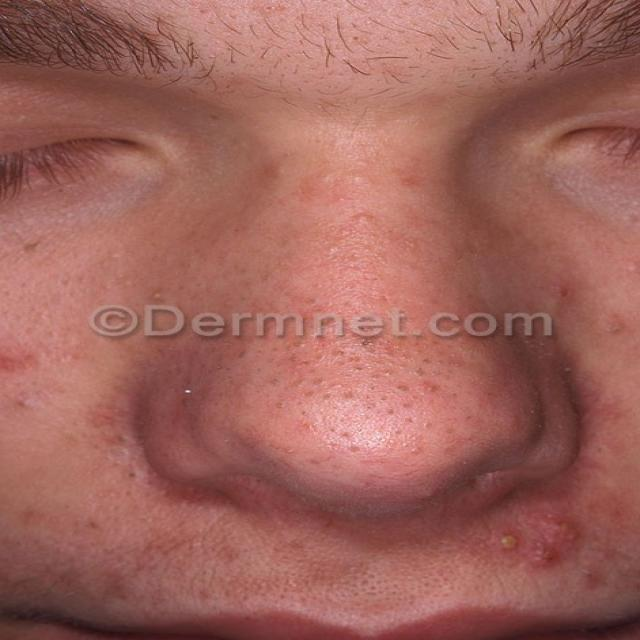Acne: (535, 513, 586, 546), (484, 528, 531, 560), (0, 343, 44, 377), (571, 561, 616, 592), (342, 202, 383, 234), (546, 276, 584, 308), (521, 547, 565, 573)
